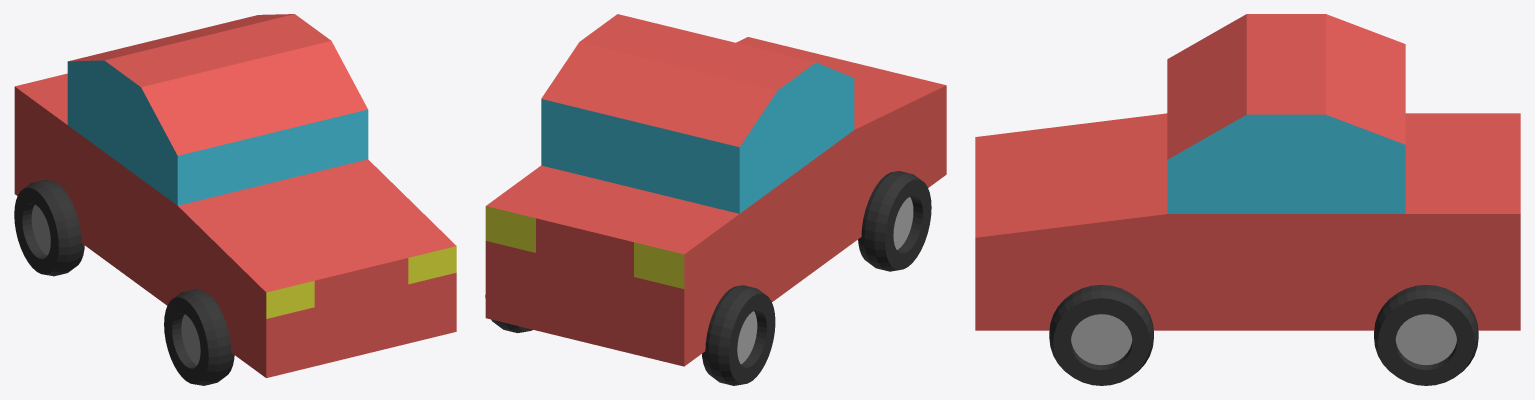
Rendered from Car.glb.
The picture shows the model from 3 angles, left to right: view 1: azimuth 30°, elevation 25°; view 2: azimuth 150°, elevation 25°; view 3: azimuth 270°, elevation 25°; orthographic projection. The views are drawn at different scales.
Parts seen in each view (by area): view 1: Body, Wheels Back, Wheels Front; view 2: Body, Wheels Back, Wheels Front; view 3: Body, Wheels Back, Wheels Front.
Boxes of the visible parts, x1,y1,x2,y2 form: Body: (14, 14, 456, 377); Wheels Back: (14, 179, 84, 276); Wheels Front: (164, 289, 234, 385); Body: (485, 14, 946, 366); Wheels Back: (485, 285, 775, 385); Wheels Front: (858, 171, 931, 271); Body: (975, 14, 1520, 330); Wheels Back: (1374, 285, 1478, 385); Wheels Front: (1049, 285, 1153, 385).
Size of the model in its own units: 2.45 by 2.44 by 4.58.
